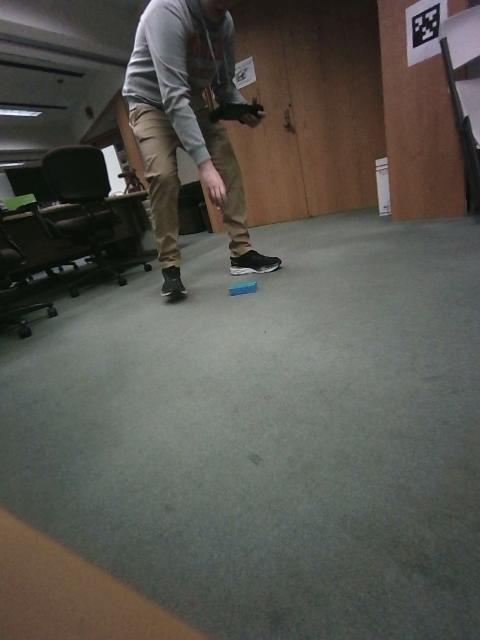block: (201, 357, 265, 427)
